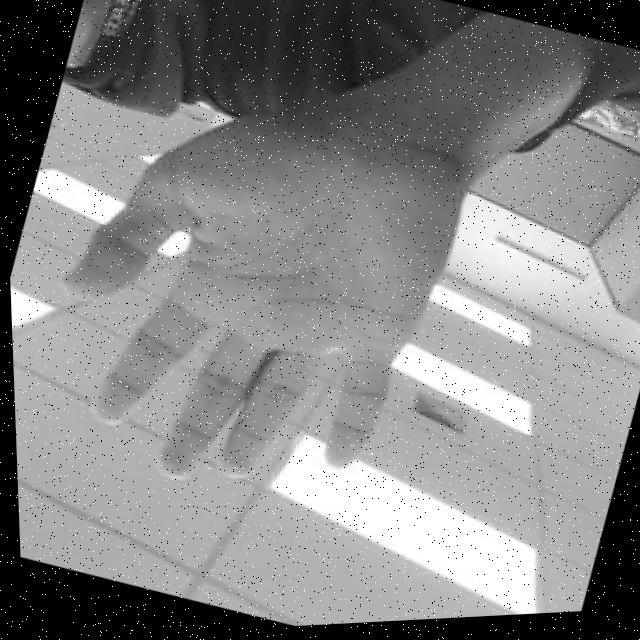no-gloves: (2, 32, 497, 550)
